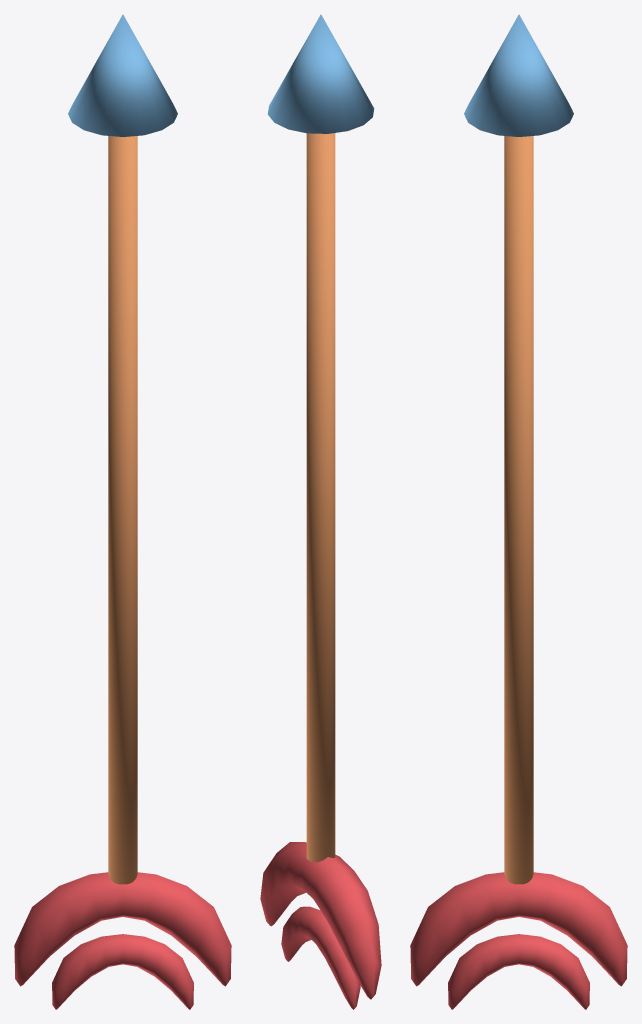
Rendered from Arrow.fbx.
3 views of the same model, side by side, from view 1: azimuth 90°, elevation 25°; view 2: azimuth 210°, elevation 25°; view 3: azimuth 270°, elevation 25° (orthographic). The views are drawn at different scales.
Visible parts, largest first — view 1: Arrow; view 2: Arrow; view 3: Arrow.
Part boxes in pixels (x1,y1,x2,y2): Arrow: (14,14,231,1009); Arrow: (260,14,381,1009); Arrow: (410,14,627,1009).
Size of the model in its own units: 25.3 by 252 by 49.86.
